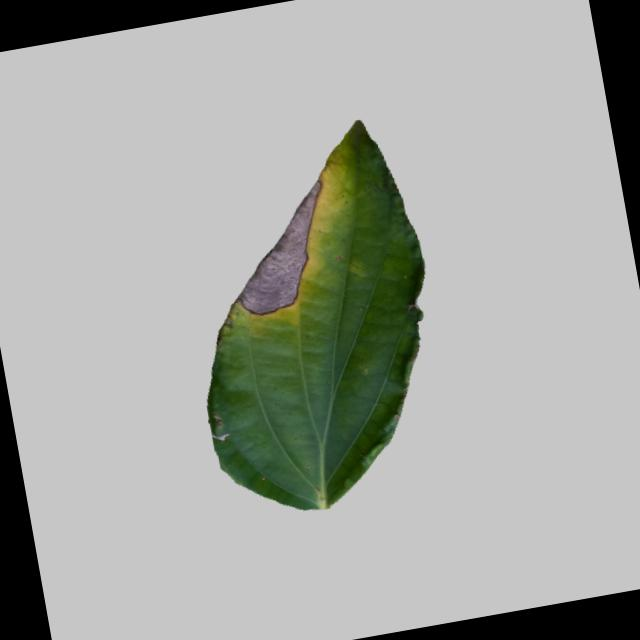leaf-blight: (147, 114, 468, 534)
